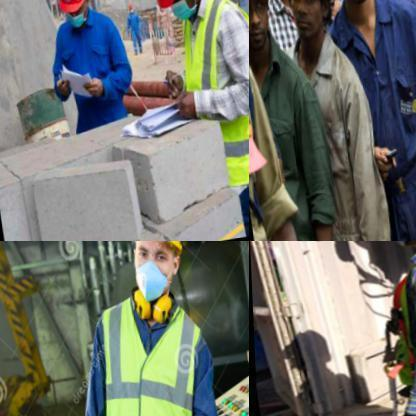vest: (329, 0, 415, 240), (76, 285, 226, 415), (162, 0, 248, 193), (369, 241, 415, 409)
